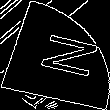N_W: (18, 28, 92, 82)
